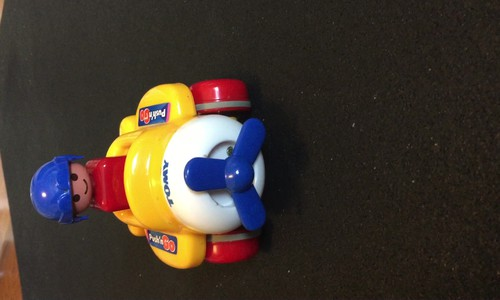toy: (25, 74, 265, 267)
